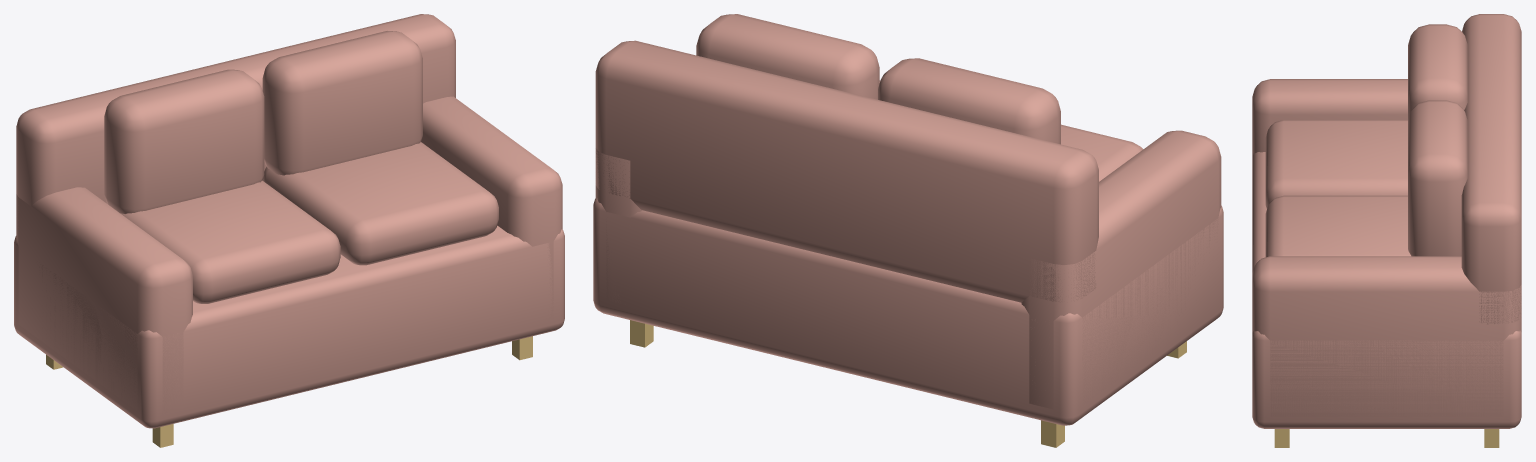
The model's file is fur_loveseat.glb.
3 views of the same model, side by side, from view 1: azimuth 30°, elevation 25°; view 2: azimuth 150°, elevation 25°; view 3: azimuth 270°, elevation 25° (orthographic). The views are drawn at different scales.
Visible parts, largest first — view 1: FUR_loveseat; view 2: FUR_loveseat; view 3: FUR_loveseat.
Part boxes in pixels (<box>): FUR_loveseat: <box>14,14,564,447</box>; FUR_loveseat: <box>593,14,1223,447</box>; FUR_loveseat: <box>1252,14,1521,447</box>.
Size of the model in its own units: 1.6 by 0.99 by 0.9.
